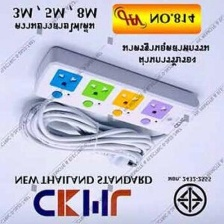three_eye_plug: (30, 41, 201, 140)
